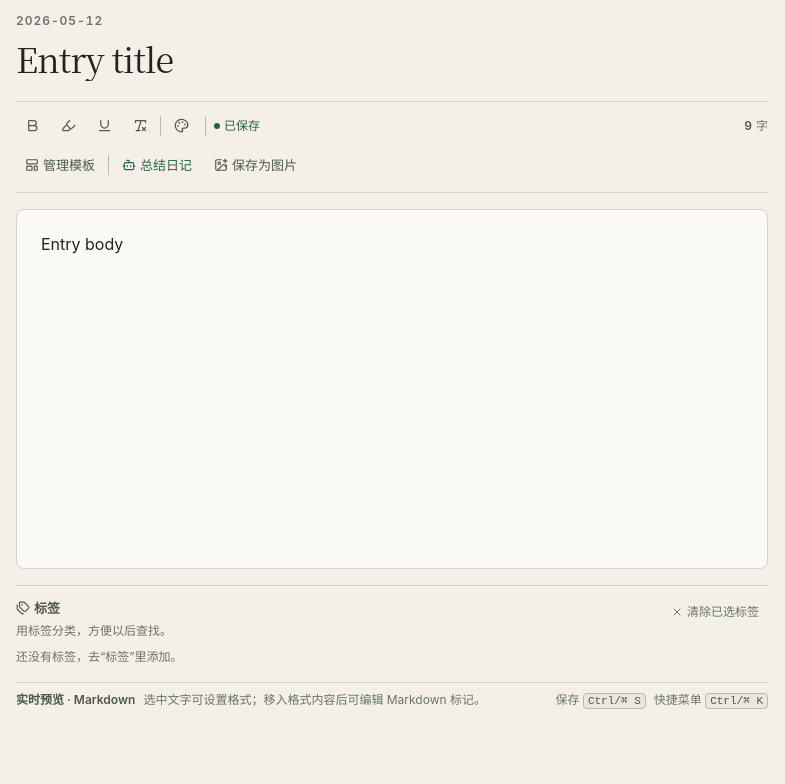
Editor AI summary request › does not reopen the summary card after it is closed while loading
Click the button "总结日记".
click(157, 165)  # box x1=113 y1=150 x2=201 y2=180
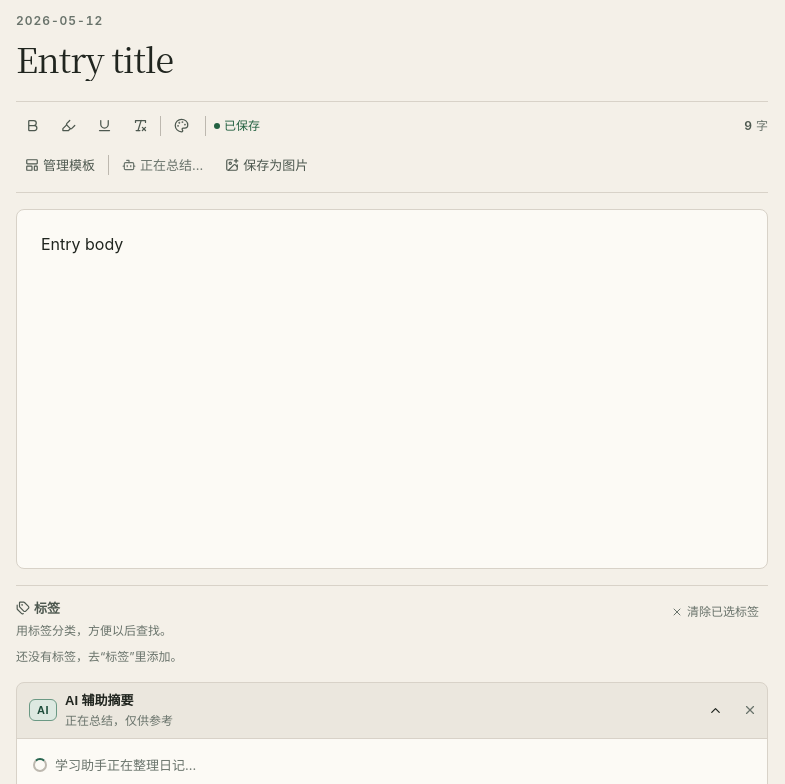
Click the button named "关闭总结".
click(750, 710)  # box x1=735 y1=695 x2=765 y2=725
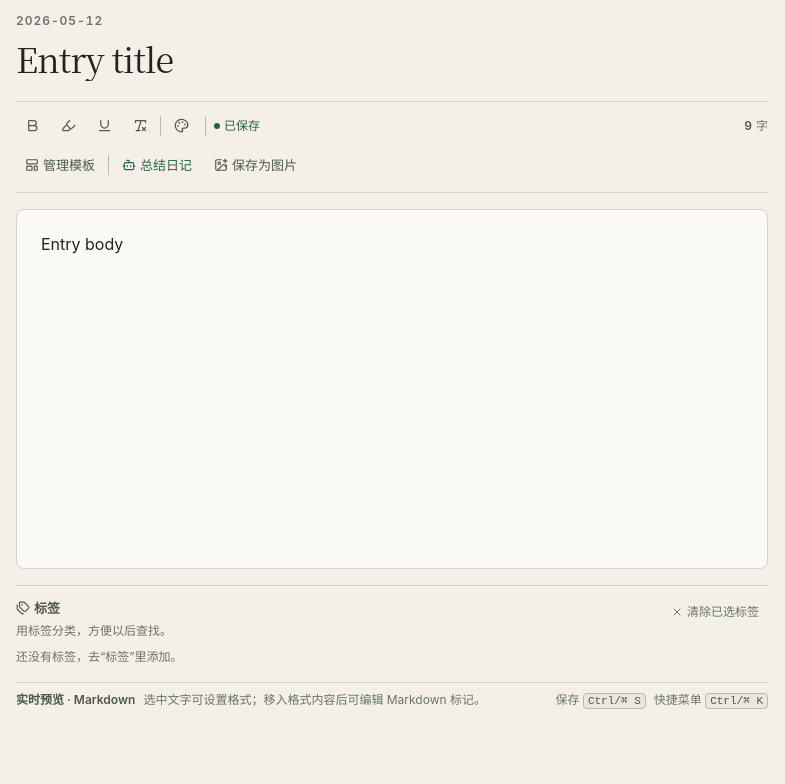
Now the button "总结日记" is enabled, box x1=113 y1=150 x2=201 y2=180
